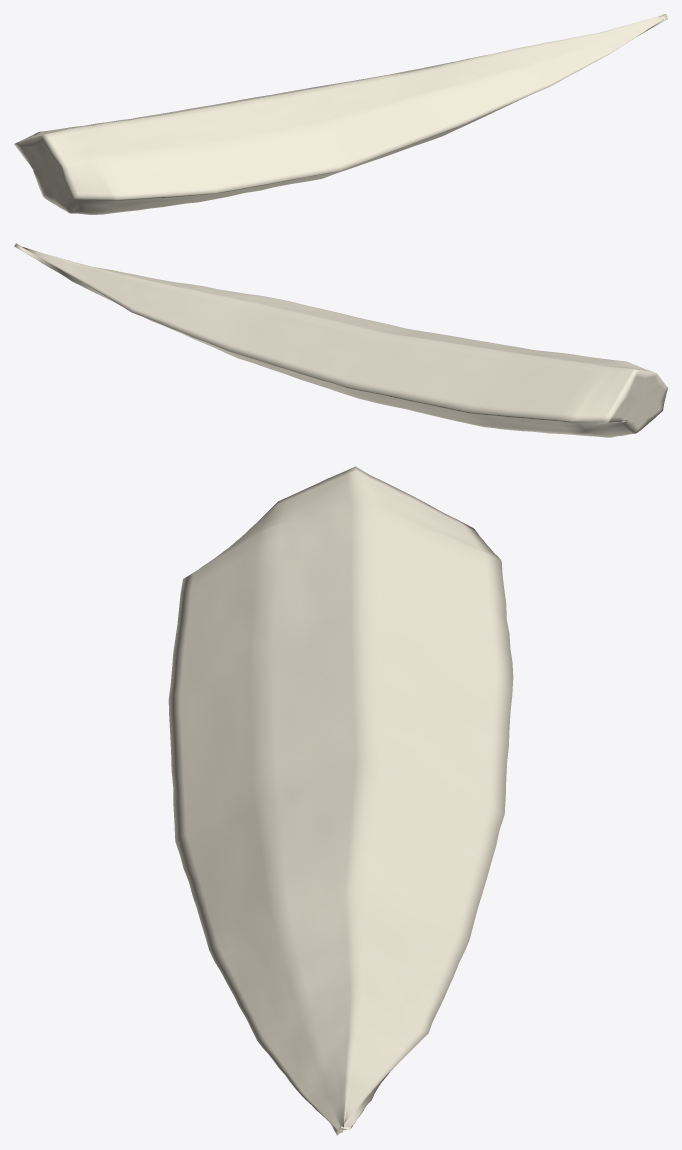
File: splinter.glb
3 views of the same model, one above another, from view 1: azimuth 30°, elevation 25°; view 2: azimuth 150°, elevation 25°; view 3: azimuth 270°, elevation 25° (orthographic). The views are drawn at different scales.
Parts seen in each view (by area): view 1: Splinter; view 2: Splinter; view 3: Splinter.
Boxes of the visible parts, left/top/right/bottom form: Splinter: left=14, top=14, right=667, bottom=214; Splinter: left=14, top=243, right=667, bottom=437; Splinter: left=168, top=466, right=513, bottom=1135.
Size of the model in its own units: 0.0295 by 0.00442 by 0.00711.
